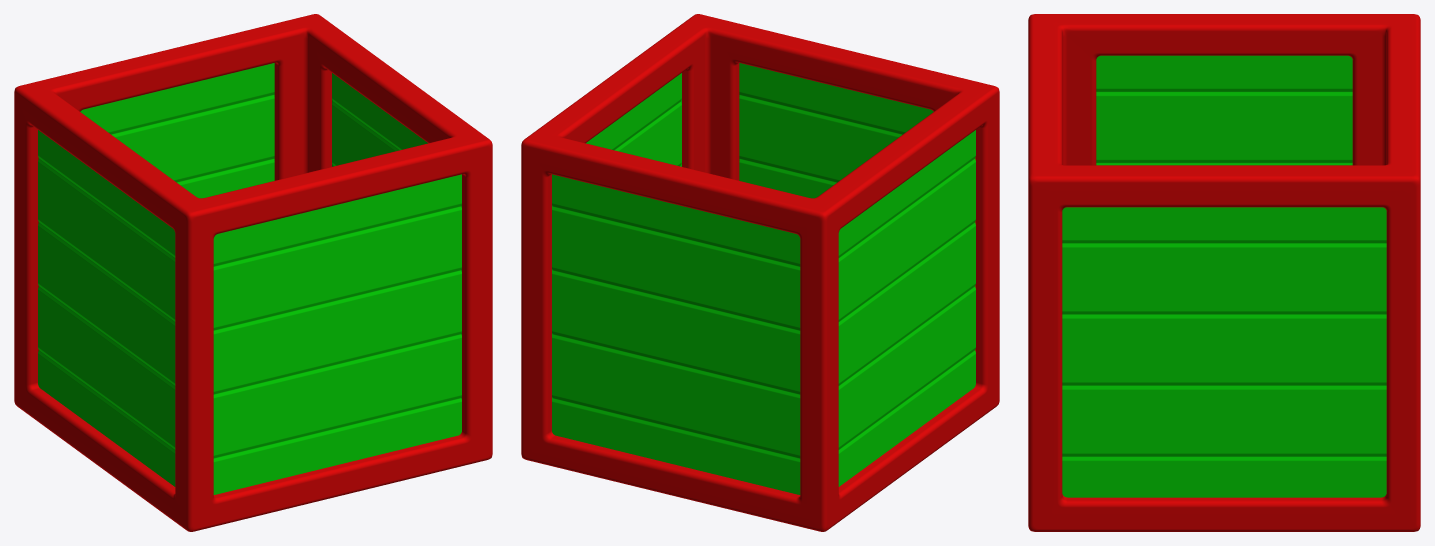
3 renders of one model, left to right at view 1: azimuth 30°, elevation 25°; view 2: azimuth 150°, elevation 25°; view 3: azimuth 270°, elevation 25°, orthographic. The views are drawn at different scales.
Parts seen in each view (by area): view 1: normal2; view 2: normal2; view 3: normal2.
Boxes of the visible parts, box(x1,y1,x2,y2) form: normal2: box(14, 14, 492, 531); normal2: box(521, 14, 999, 531); normal2: box(1028, 14, 1420, 531).
Bounding box in the file's own units: 75 × 75 × 75.
